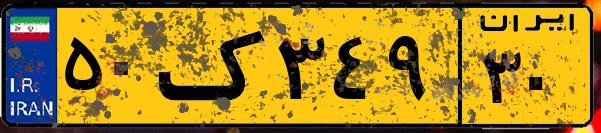0: (525, 38, 570, 115), (110, 28, 158, 98)
3: (270, 28, 330, 110), (475, 38, 525, 113)
4: (330, 28, 385, 110)
5: (57, 26, 110, 100)
9: (385, 28, 445, 110)
ک: (158, 12, 270, 120)
